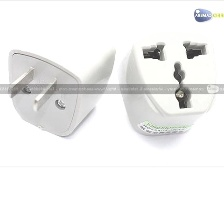three_eye_plug: (3, 15, 118, 140), (115, 25, 219, 138)
